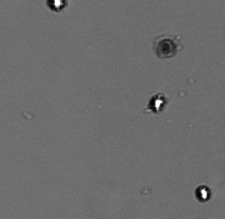Dead Cell: (154, 36, 178, 60)
Living Cell: (148, 92, 168, 114), (194, 184, 213, 203), (44, 1, 69, 11)
